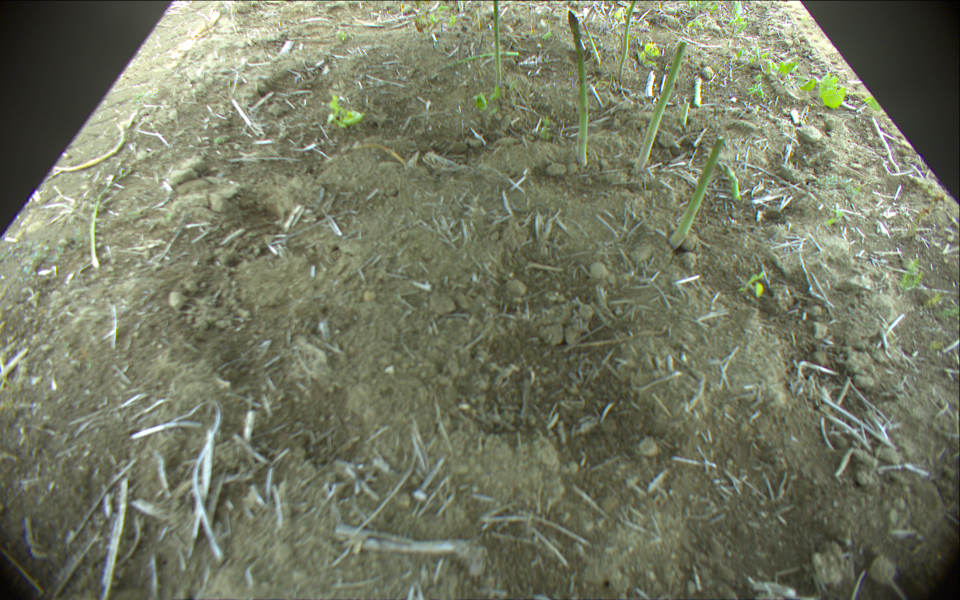aspa: (667, 137, 727, 250), (636, 40, 687, 170), (89, 166, 139, 266), (52, 118, 132, 174), (568, 12, 589, 166), (618, 1, 636, 83), (446, 52, 521, 69), (580, 19, 604, 63), (492, 1, 502, 87), (726, 163, 744, 202), (547, 6, 555, 40)
